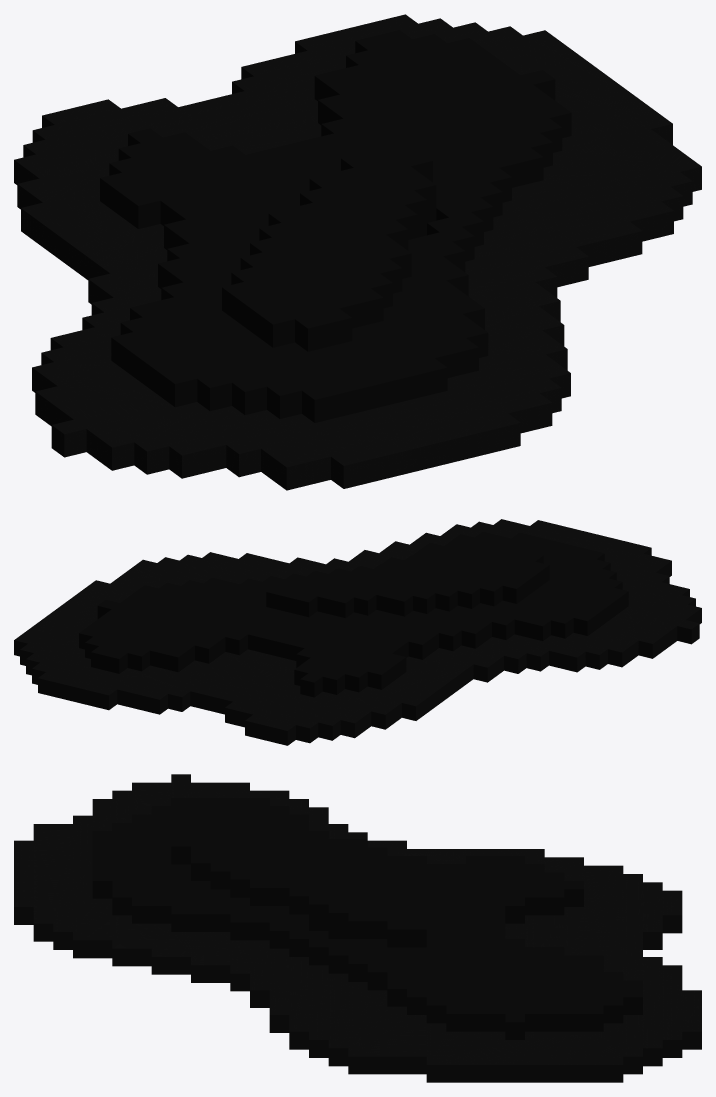
File: Tar.obj
3 views of the same model, one above another, from view 1: azimuth 30°, elevation 25°; view 2: azimuth 150°, elevation 25°; view 3: azimuth 270°, elevation 25° (orthographic). The views are drawn at different scales.
Parts seen in each view (by area): view 1: Tar; view 2: Tar; view 3: Tar.
Boxes of the visible parts, x1,y1,x2,y2 form: Tar: [14, 14, 701, 490]; Tar: [14, 519, 701, 745]; Tar: [14, 774, 701, 1082].
Bounding box in the file's own units: 35 × 3 × 35.
1 material, 1 textured.
